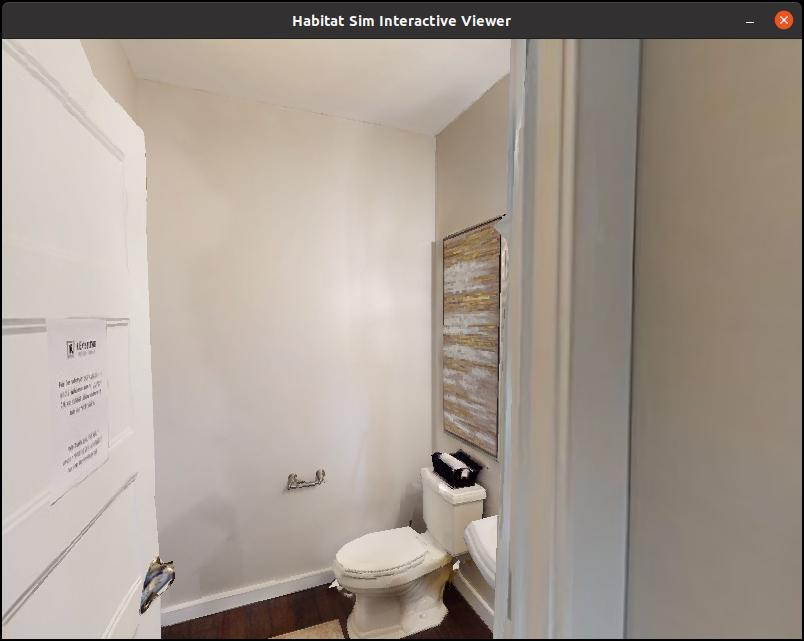toilet: (326, 445, 495, 641)
